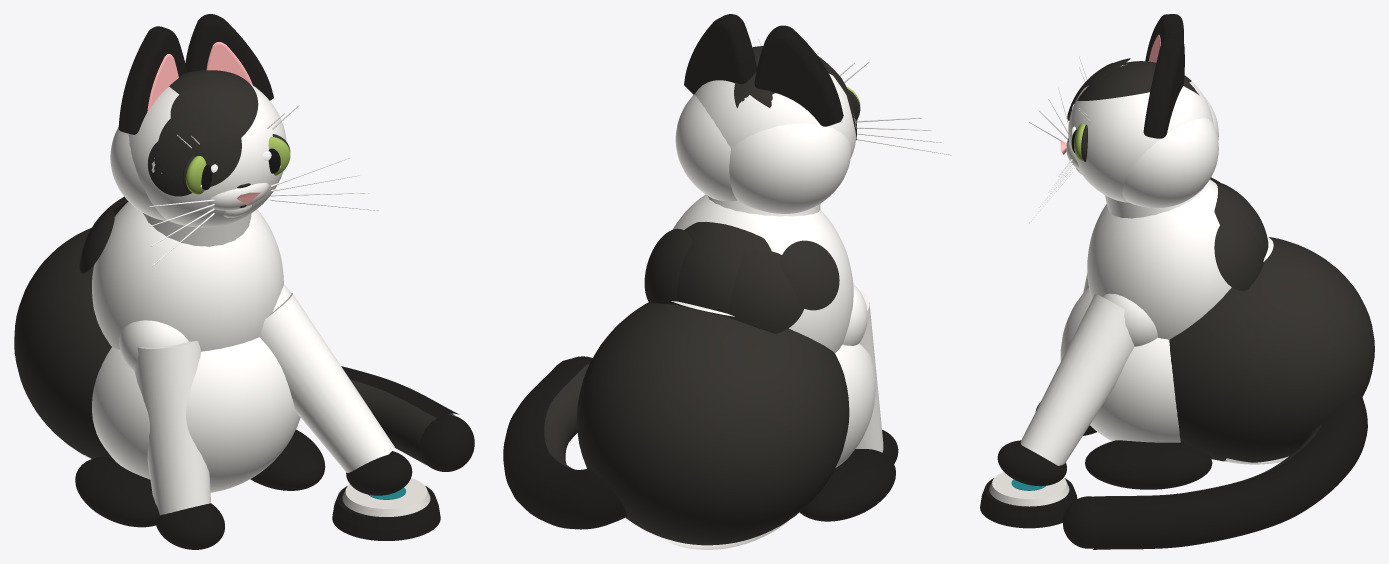
The model's file is cat-talking-button.glb.
3 views of the same model, side by side, from view 1: azimuth 30°, elevation 25°; view 2: azimuth 150°, elevation 25°; view 3: azimuth 270°, elevation 25° (orthographic). The views are drawn at different scales.
Parts seen in each view (by area): view 1: chest, belly, haunches, foreleg_right, foreleg_left, head, hind_foot_left_outline, marking_mask_left, ear_left_outline, tail, ear_right_outline, hind_foot_right_outline (+18 smaller); view 2: haunches, tail_outline, cheek_line_left, chest, marking_saddle, ear_left_outline, head, marking_saddle_left, hind_foot_left_outline, cheek_line_right, ear_right_outline, marking_shoulder_spot (+7 smaller); view 3: haunches, tail_outline, chest, foreleg_right, head, belly, cheek_line_right, hind_foot_right_outline, marking_saddle_right, ear_right_outline, paw_right_pressing_outline, marking_crown (+8 smaller).
Boxes of the visible parts, x1,y1,x2,y2 form: chest: (92,201,283,351); belly: (92,337,300,492); haunches: (14,228,111,458); foreleg_right: (259,293,394,472); foreleg_left: (134,341,210,515); head: (128,84,286,227); hind_foot_left_outline: (75,456,159,527); marking_mask_left: (157,105,241,186); ear_left_outline: (118,26,187,134); tail: (350,379,455,465); ear_right_outline: (185,14,273,100); hind_foot_right_outline: (250,429,325,490); haunches: (577,302,849,545); tail_outline: (503,358,626,529); cheek_line_left: (729,123,851,213); chest: (673,194,853,353); marking_saddle: (675,222,771,317); ear_left_outline: (754,25,843,126); head: (695,73,856,158); marking_saddle_left: (728,250,803,333); hind_foot_left_outline: (799,449,895,521); cheek_line_right: (675,94,737,201); ear_right_outline: (684,14,756,94); marking_shoulder_spot: (779,240,839,310); haunches: (1169,237,1374,462); tail_outline: (1091,394,1367,549); chest: (1087,179,1231,339); foreleg_right: (1020,293,1134,465); head: (1068,61,1213,202); belly: (1060,287,1180,442); cheek_line_right: (1122,118,1218,208); hind_foot_right_outline: (1085,440,1212,489); marking_saddle_right: (1214,215,1264,290); ear_right_outline: (1143,37,1184,138); paw_right_pressing_outline: (997,440,1066,486); marking_crown: (1077,64,1191,100).
Bounding box in the file's own units: 0.4997 × 0.6341 × 0.5298.
